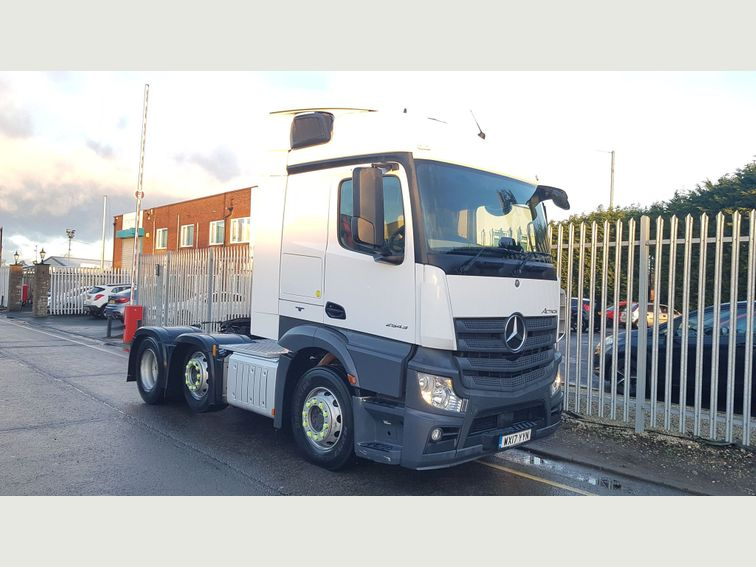Car: (107, 287, 189, 324), (82, 280, 127, 312)
Semi: (126, 90, 570, 472)
